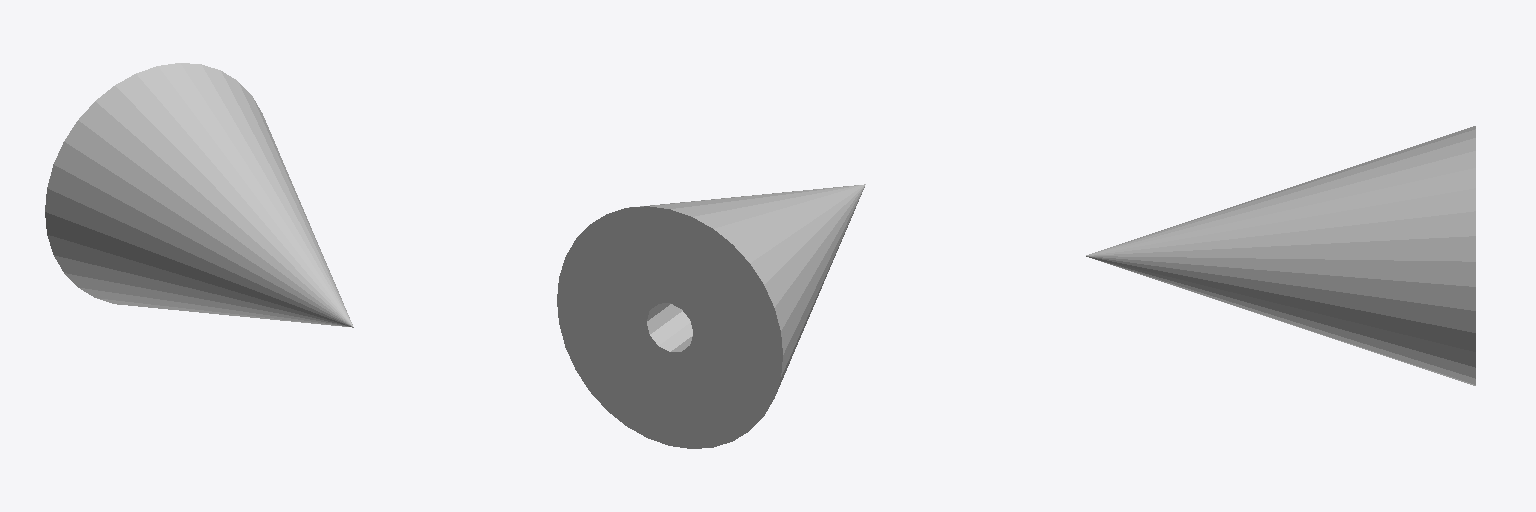
File: top.obj
3 views of the same model, side by side, from view 1: azimuth 30°, elevation 25°; view 2: azimuth 150°, elevation 25°; view 3: azimuth 270°, elevation 25° (orthographic).
Visible parts, largest first — view 1: <STL_BINARY>; view 2: <STL_BINARY>; view 3: <STL_BINARY>.
Part boxes in pixels (x1,y1,x2,y2): <STL_BINARY>: (45, 63, 353, 327); <STL_BINARY>: (557, 184, 865, 448); <STL_BINARY>: (1086, 126, 1475, 385).
Bounding box in the file's own units: 19.33 × 19.33 × 29.